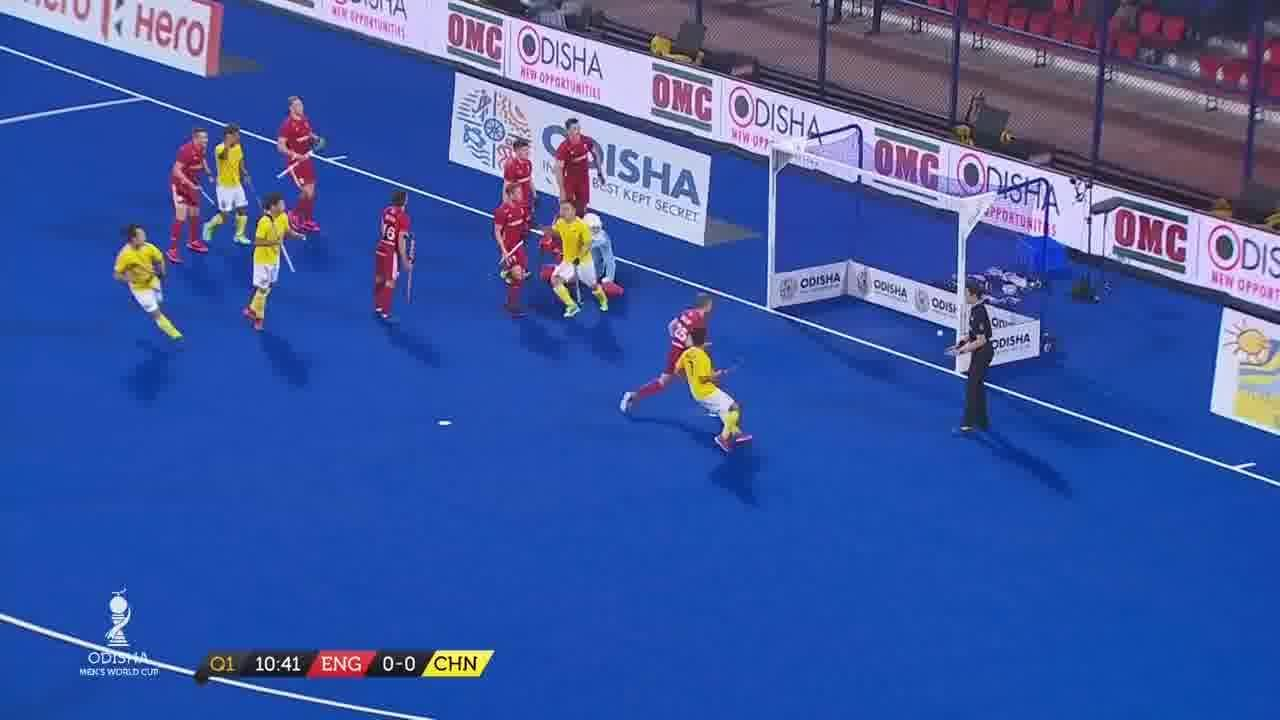ball: (934, 324, 946, 341)
